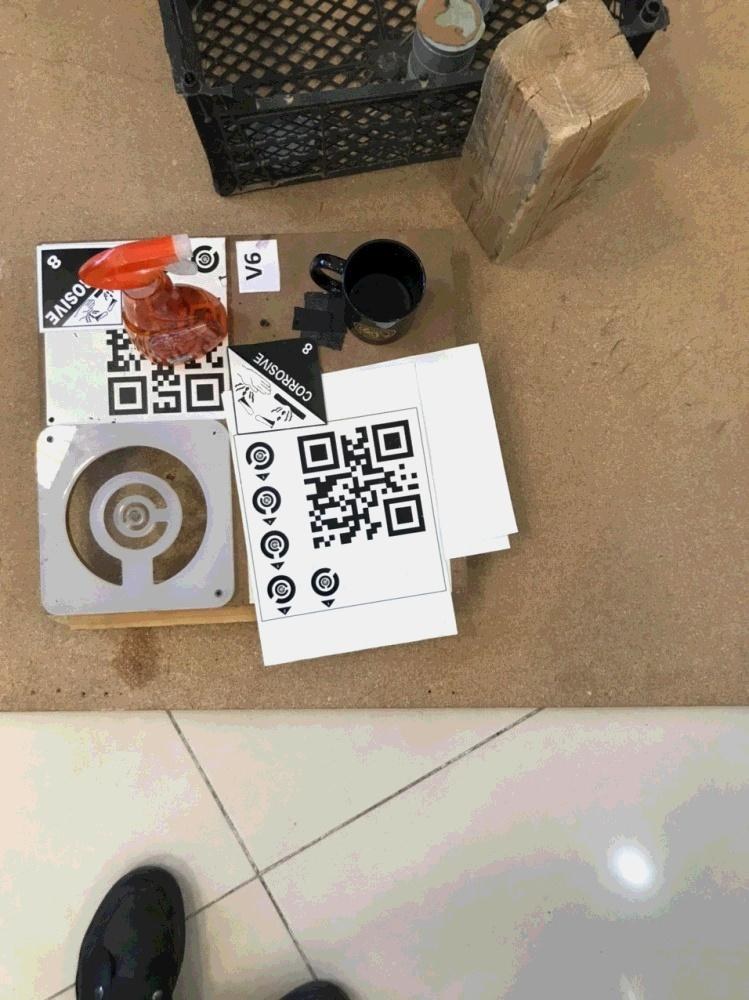corrosive: (223, 338, 332, 437), (37, 242, 129, 331)
